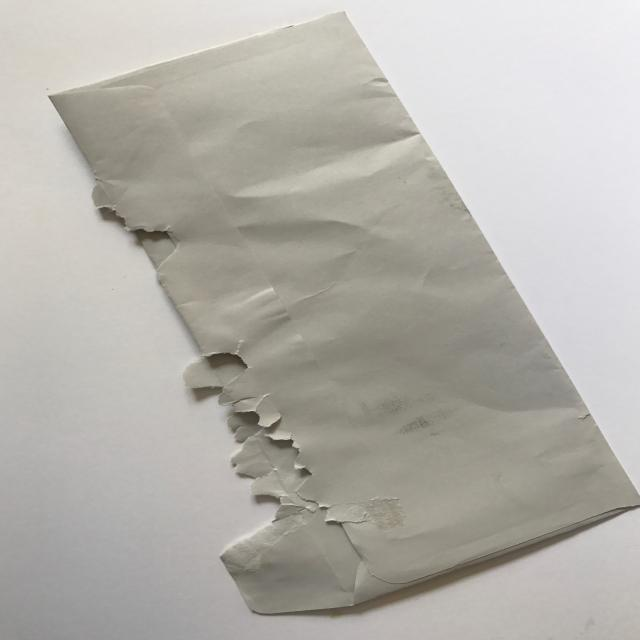paper: (22, 0, 640, 621)
